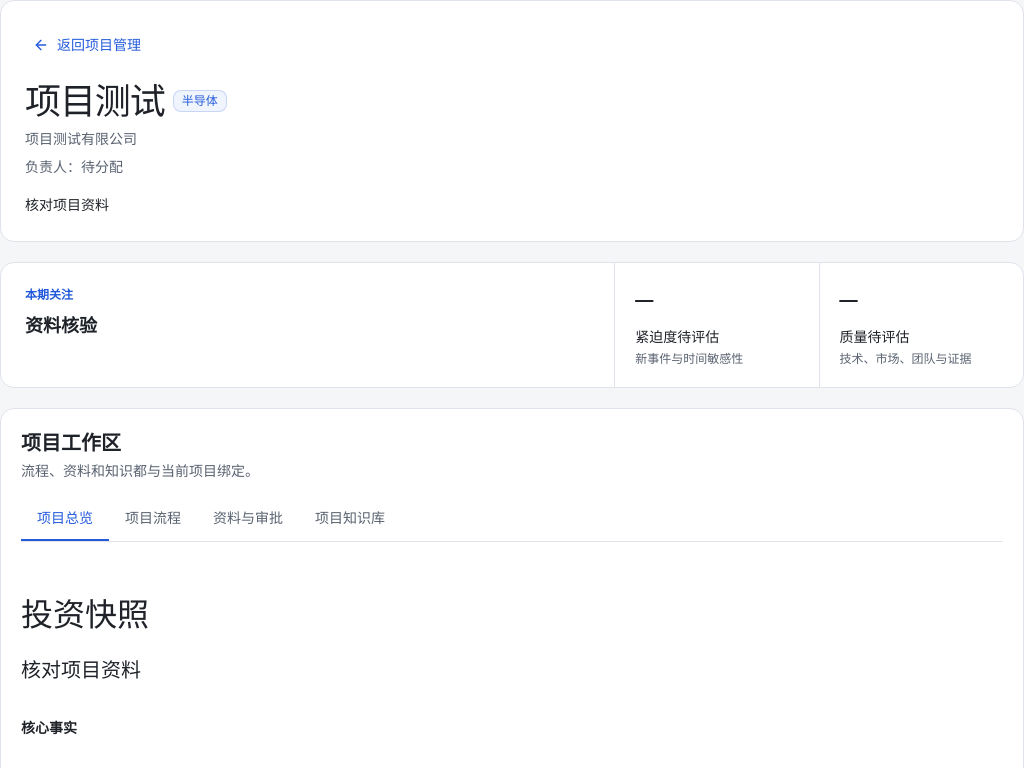
it: keeps failed submissions editable and does not display an unsaved review result
Click the tab "资料与审批": (248, 519) x1=197 y1=497 x2=299 y2=541
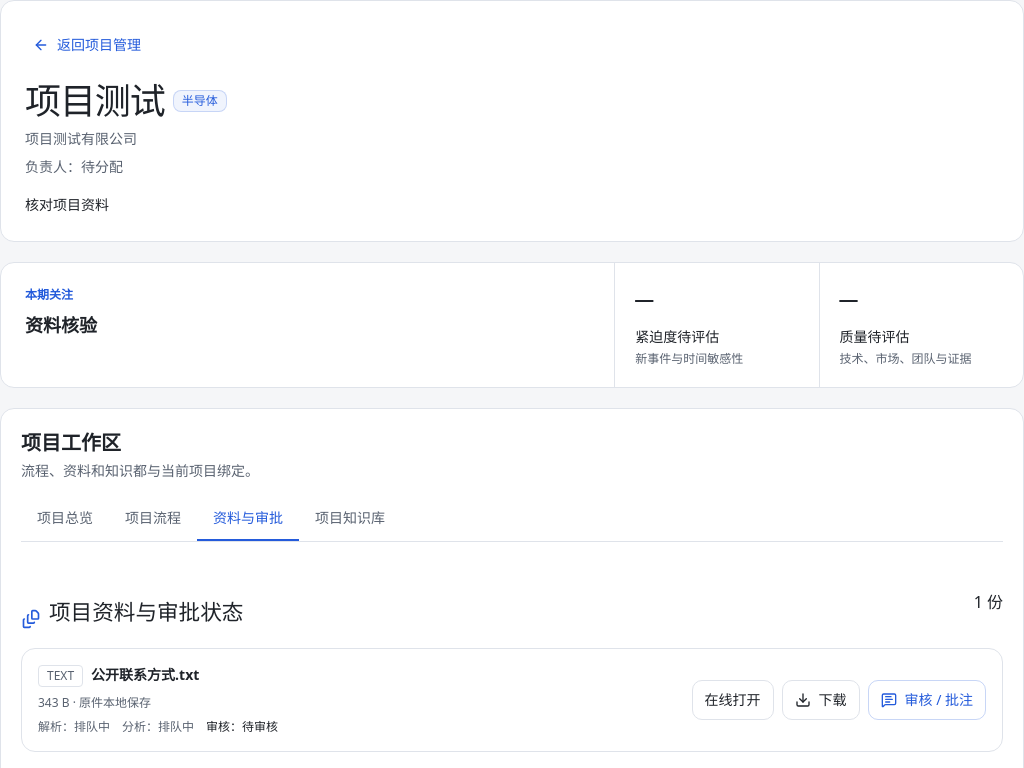
Click the button with aria-label "审核 / 批注 公开联系方式.txt": (927, 700) x1=868 y1=680 x2=986 y2=720
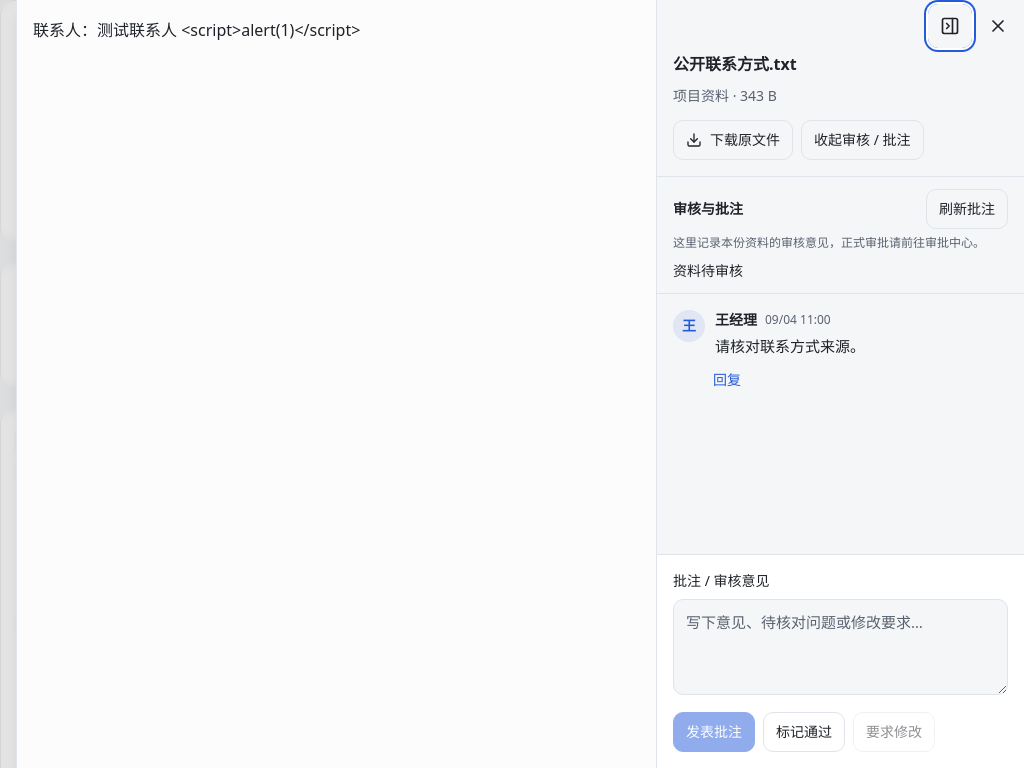
expect the text "请核对联系方式来源。" is shown: met, box x1=715 y1=336 x2=865 y2=356
In the text box labelled "批注 / 审核意见": (840, 647) x1=673 y1=599 x2=1008 y2=695, type "需补充来源"
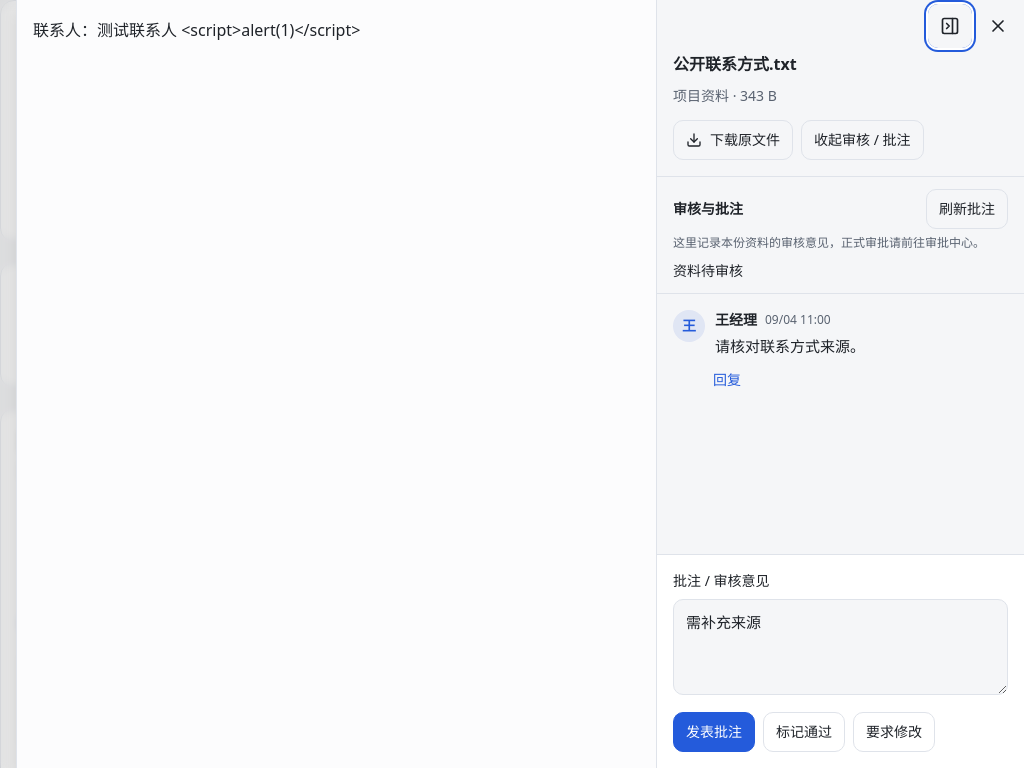
Click the button "要求修改": (894, 732) x1=853 y1=712 x2=935 y2=752
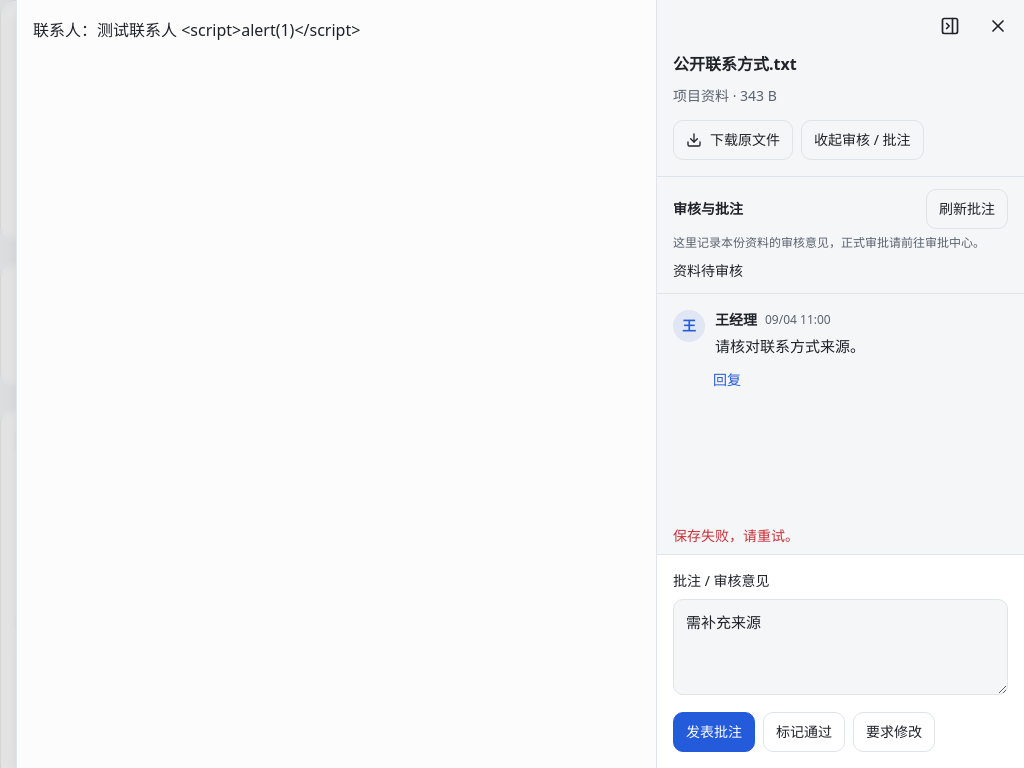
expect the message reads "保存失败，请重试。": met, box x1=673 y1=526 x2=799 y2=545
